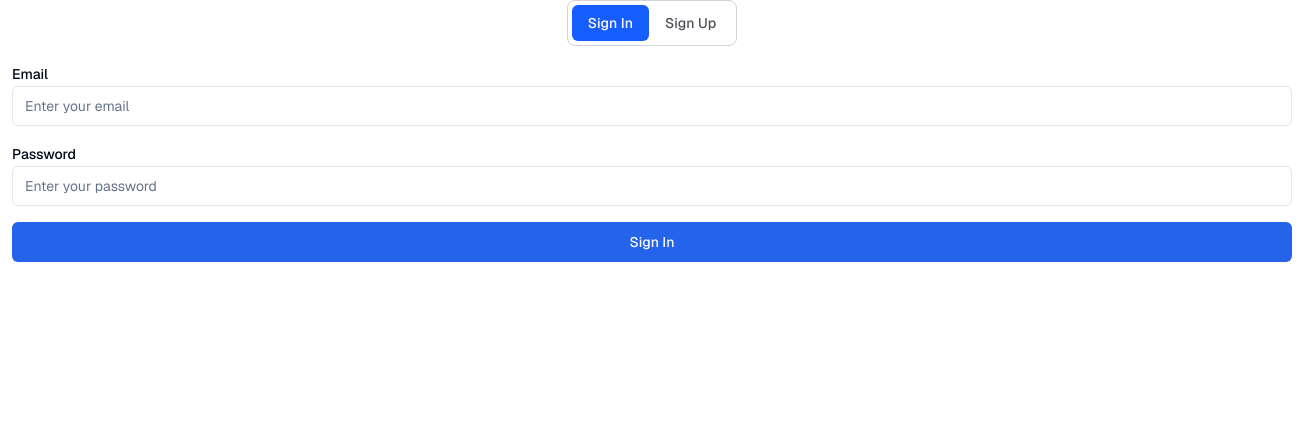
Scenario: EmailPasswordForm Component (RED PHASE) › Sign Up Functionality › should display error message on signup failure
The image size is (1304, 421).
Click the button "Sign Up". click: (691, 23)
box: [649,5,732,41]
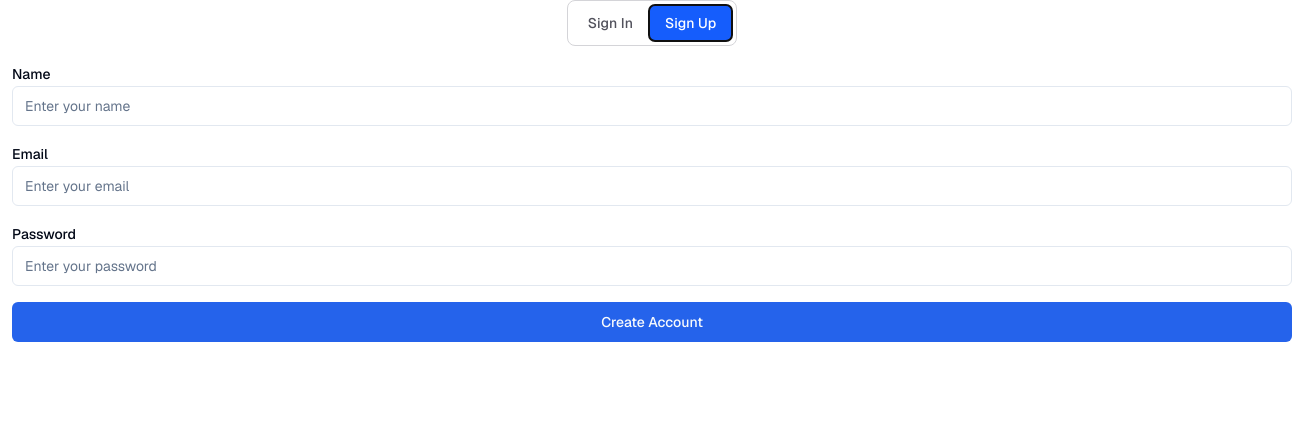
Type "Test User" into the field labelled "Name". click: (652, 106)
box: [12,86,1292,126]
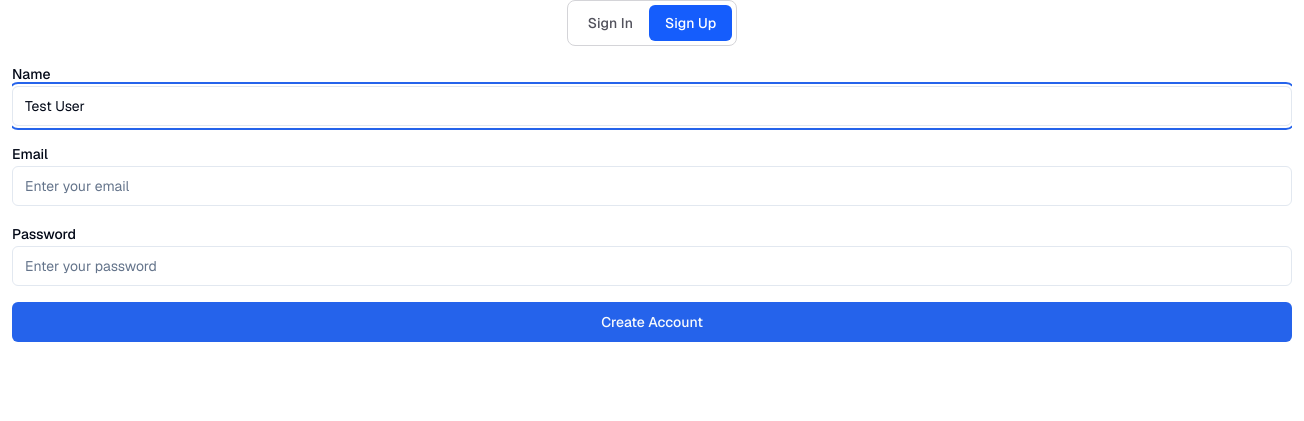
Type "existing@example.com" into the field labelled "Email". click: (652, 186)
box: [12,166,1292,206]
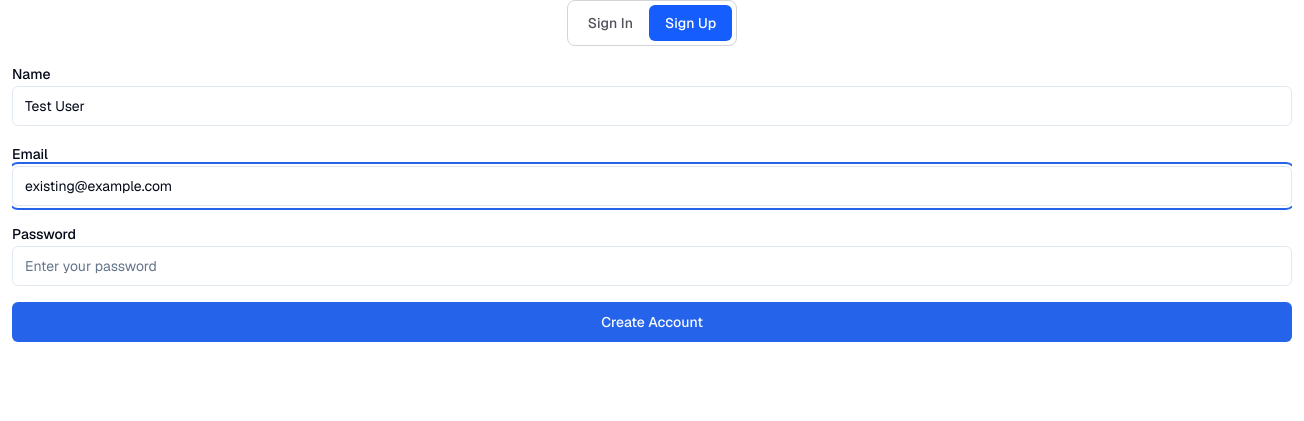
Type "password123" into the password field labelled "Password". click: (652, 266)
box: [12,246,1292,286]
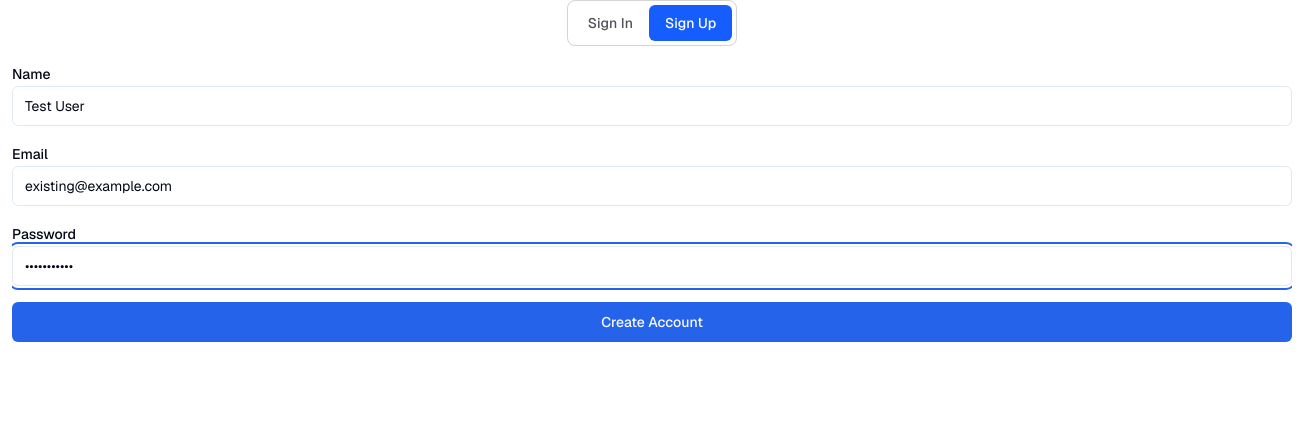
Click the button "Create Account". click: (652, 322)
box: [12,302,1292,342]
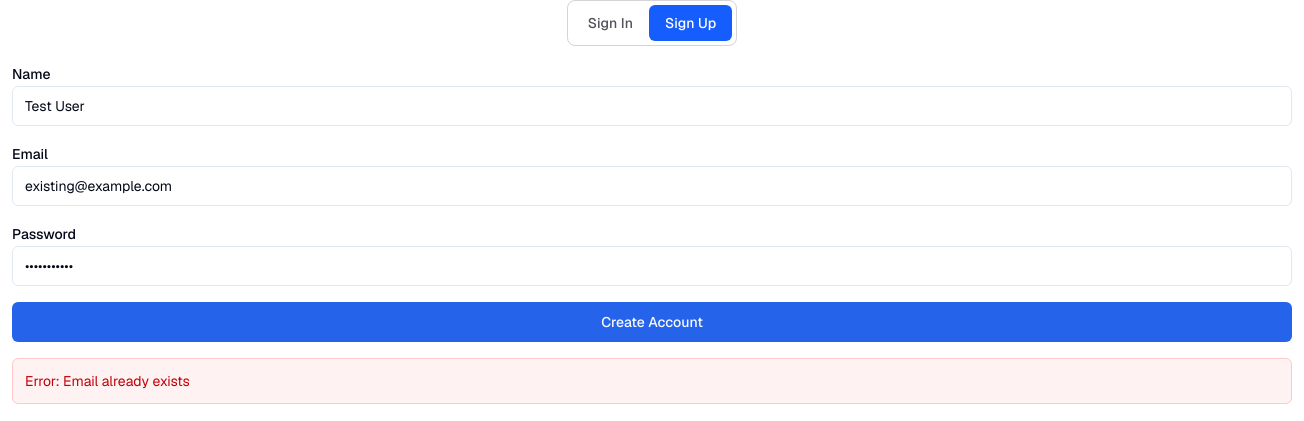
Result: the text "Error: Email already exists" is shown at [12,358,1292,404]
